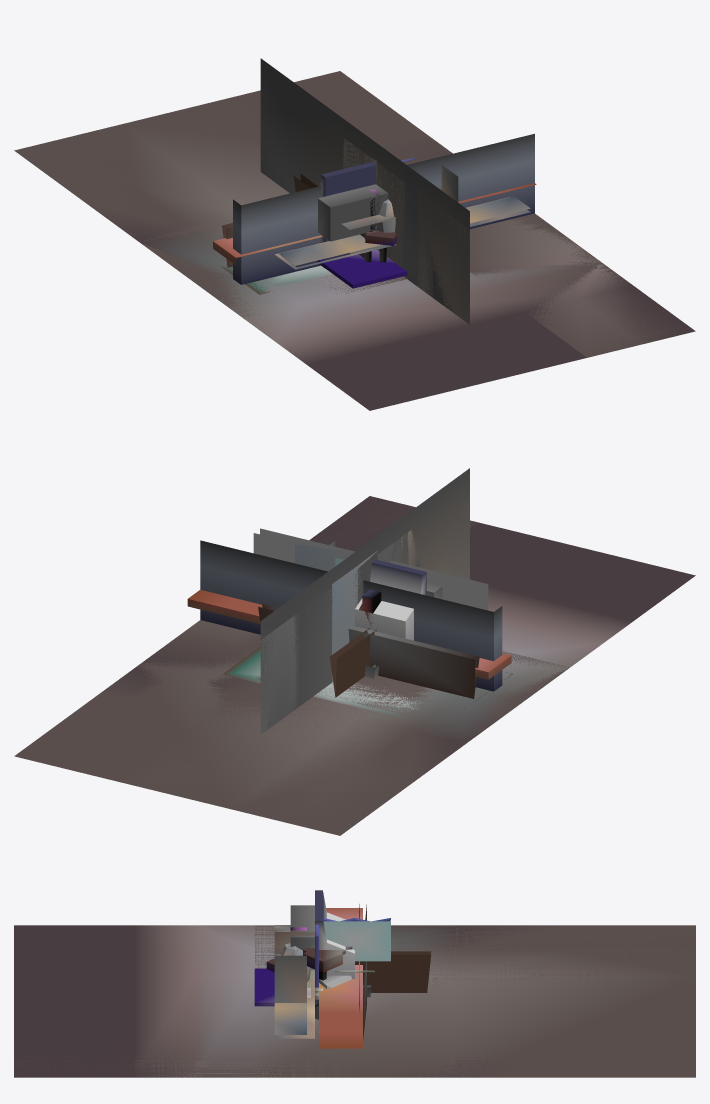
File: backstage_bar_lounge.glb
3 renders of one model, top to bottom at view 1: azimuth 30°, elevation 25°; view 2: azimuth 150°, elevation 25°; view 3: azimuth 270°, elevation 25°, orthographic. The views are drawn at different scales.
Visible parts, largest first — view 1: 0x65f_Backstage_Bar_Lounge_Pool_Table_Farthest_Left_Leg, 0x660_Backstage_Bar_Lounge_Floor_Left_Section, 0x686_Backstage_Bar_Lounge_Wall_Bracket_For_Television_Set, 0x648_Backstage_Bar_Lounge_Back_Wall_Lava_Lamp, 0x687_Backstage_Bar_Lounge_Left_Wall_Farthest_Upper_Section, 0x652_Backstage_Bar_Lounge_Left_Table_Stool, 0x680_Backstage_Bar_Lounge_Cabinet_Behind_Bar_Right_Frame, 0x679_Backstage_Bar_Lounge_Table_Stand, 0x688_Backstage_Bar_Lounge_Left_Wall_Farthest_Lower_Section, 0x663_Backstage_Bar_Lounge_Cabinet_Behind_Bar_Wooden_Ice_Keg, 0x671_Backstage_Bar_Lounge_Cabinet_Behind_Bar_Left_Bottle_Ta, 0x681_Backstage_Bar_Lounge_Cabinet_Behind_Bar_Middle_Horizon (+2 smaller); view 2: 0x65f_Backstage_Bar_Lounge_Pool_Table_Farthest_Left_Leg, 0x660_Backstage_Bar_Lounge_Floor_Left_Section, 0x648_Backstage_Bar_Lounge_Back_Wall_Lava_Lamp, 0x686_Backstage_Bar_Lounge_Wall_Bracket_For_Television_Set, 0x688_Backstage_Bar_Lounge_Left_Wall_Farthest_Lower_Section, 0x673_Backstage_Bar_Lounge_Pool_Table_Left_Side, 0x687_Backstage_Bar_Lounge_Left_Wall_Farthest_Upper_Section, 0x689_Backstage_Bar_Lounge_Left_Wall_Nearest_Upper_Section, 0x663_Backstage_Bar_Lounge_Cabinet_Behind_Bar_Wooden_Ice_Keg, 0x671_Backstage_Bar_Lounge_Cabinet_Behind_Bar_Left_Bottle_Ta, 0x64a_Backstage_Bar_Lounge_Bar_Foot_Rest, 0x643_Backstage_Bar_Lounge_Cabinet_Behind_Bar_Section_Behind (+5 smaller); view 3: 0x65f_Backstage_Bar_Lounge_Pool_Table_Farthest_Left_Leg, 0x660_Backstage_Bar_Lounge_Floor_Left_Section, 0x64a_Backstage_Bar_Lounge_Bar_Foot_Rest, 0x672_Backstage_Bar_Lounge_Pool_Table_Surface, 0x66c_Backstage_Bar_Lounge_APA_Sign_Image, 0x681_Backstage_Bar_Lounge_Cabinet_Behind_Bar_Middle_Horizon, 0x663_Backstage_Bar_Lounge_Cabinet_Behind_Bar_Wooden_Ice_Keg, 0x680_Backstage_Bar_Lounge_Cabinet_Behind_Bar_Right_Frame, 0x652_Backstage_Bar_Lounge_Left_Table_Stool, 0x679_Backstage_Bar_Lounge_Table_Stand, 0x64f_Backstage_Bar_Lounge_Bar_Stool_2, 0x67d_Backstage_Bar_Lounge_Cabinet_Behind_Bar_Upper_Frame (+1 smaller).
Part boxes in pixels (<box>): 0x65f_Backstage_Bar_Lounge_Pool_Table_Farthest_Left_Leg: <box>14,71,695,410</box>; 0x660_Backstage_Bar_Lounge_Floor_Left_Section: <box>16,71,694,357</box>; 0x686_Backstage_Bar_Lounge_Wall_Bracket_For_Television_Set: <box>260,58,469,324</box>; 0x648_Backstage_Bar_Lounge_Back_Wall_Lava_Lamp: <box>233,133,534,284</box>; 0x687_Backstage_Bar_Lounge_Left_Wall_Farthest_Upper_Section: <box>260,83,469,315</box>; 0x652_Backstage_Bar_Lounge_Left_Table_Stool: <box>318,184,388,241</box>; 0x680_Backstage_Bar_Lounge_Cabinet_Behind_Bar_Right_Frame: <box>279,196,530,265</box>; 0x679_Backstage_Bar_Lounge_Table_Stand: <box>317,250,407,288</box>; 0x688_Backstage_Bar_Lounge_Left_Wall_Farthest_Lower_Section: <box>400,162,417,285</box>; 0x663_Backstage_Bar_Lounge_Cabinet_Behind_Bar_Wooden_Ice_Keg: <box>320,162,375,267</box>; 0x671_Backstage_Bar_Lounge_Cabinet_Behind_Bar_Left_Bottle_Ta: <box>219,265,331,294</box>; 0x681_Backstage_Bar_Lounge_Cabinet_Behind_Bar_Middle_Horizon: <box>341,165,458,229</box>; 0x65f_Backstage_Bar_Lounge_Pool_Table_Farthest_Left_Leg: <box>15,496,695,835</box>; 0x660_Backstage_Bar_Lounge_Floor_Left_Section: <box>14,496,569,835</box>; 0x648_Backstage_Bar_Lounge_Back_Wall_Lava_Lamp: <box>200,540,502,691</box>; 0x686_Backstage_Bar_Lounge_Wall_Bracket_For_Television_Set: <box>260,468,469,734</box>; 0x688_Backstage_Bar_Lounge_Left_Wall_Farthest_Lower_Section: <box>281,518,402,707</box>; 0x673_Backstage_Bar_Lounge_Pool_Table_Left_Side: <box>258,606,475,698</box>; 0x687_Backstage_Bar_Lounge_Left_Wall_Farthest_Upper_Section: <box>260,498,469,731</box>; 0x689_Backstage_Bar_Lounge_Left_Wall_Nearest_Upper_Section: <box>290,537,401,708</box>; 0x663_Backstage_Bar_Lounge_Cabinet_Behind_Bar_Wooden_Ice_Keg: <box>355,559,426,640</box>; 0x671_Backstage_Bar_Lounge_Cabinet_Behind_Bar_Left_Bottle_Ta: <box>223,647,512,726</box>; 0x64a_Backstage_Bar_Lounge_Bar_Foot_Rest: <box>187,589,511,679</box>; 0x643_Backstage_Bar_Lounge_Cabinet_Behind_Bar_Section_Behind: <box>253,533,482,608</box>; 0x65f_Backstage_Bar_Lounge_Pool_Table_Farthest_Left_Leg: <box>14,925,695,1077</box>; 0x660_Backstage_Bar_Lounge_Floor_Left_Section: <box>14,925,695,1077</box>; 0x64a_Backstage_Bar_Lounge_Bar_Foot_Rest: <box>319,908,362,1048</box>; 0x672_Backstage_Bar_Lounge_Pool_Table_Surface: <box>355,954,430,992</box>; 0x66c_Backstage_Bar_Lounge_APA_Sign_Image: <box>323,921,390,961</box>; 0x681_Backstage_Bar_Lounge_Cabinet_Behind_Bar_Middle_Horizon: <box>274,928,306,1002</box>; 0x663_Backstage_Bar_Lounge_Cabinet_Behind_Bar_Wooden_Ice_Keg: <box>315,890,354,978</box>; 0x680_Backstage_Bar_Lounge_Cabinet_Behind_Bar_Right_Frame: <box>274,925,306,1034</box>; 0x652_Backstage_Bar_Lounge_Left_Table_Stool: <box>290,905,314,970</box>; 0x679_Backstage_Bar_Lounge_Table_Stand: <box>254,968,274,1006</box>; 0x64f_Backstage_Bar_Lounge_Bar_Stool_2: <box>303,949,342,1019</box>; 0x67d_Backstage_Bar_Lounge_Cabinet_Behind_Bar_Upper_Frame: <box>274,979,314,1038</box>.
Bounding box in the file's own units: 5.51 × 2.76 × 10.41.
